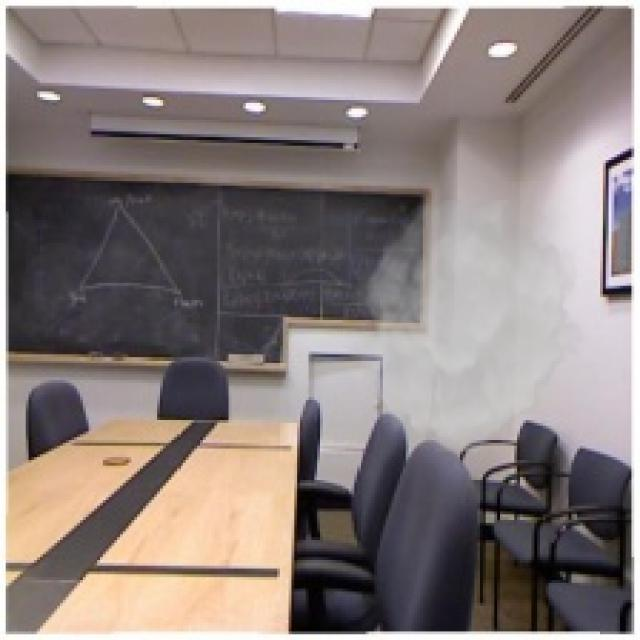smoke: (348, 200, 586, 451)
